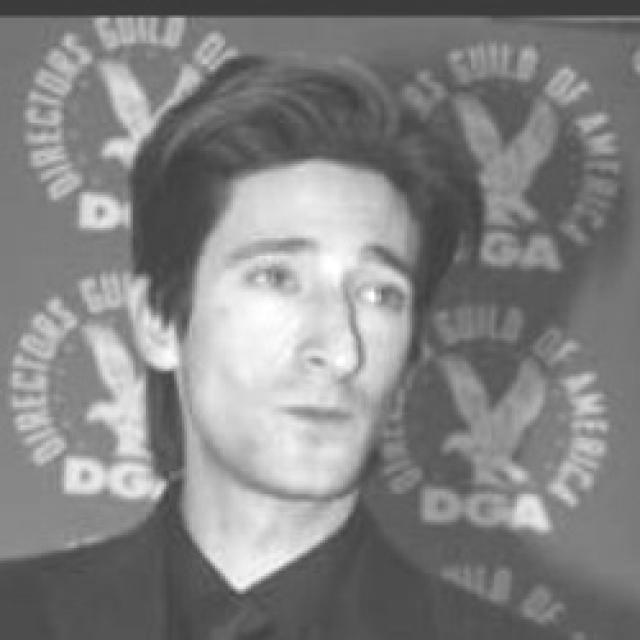real: (191, 162, 422, 504), (232, 239, 409, 319)
